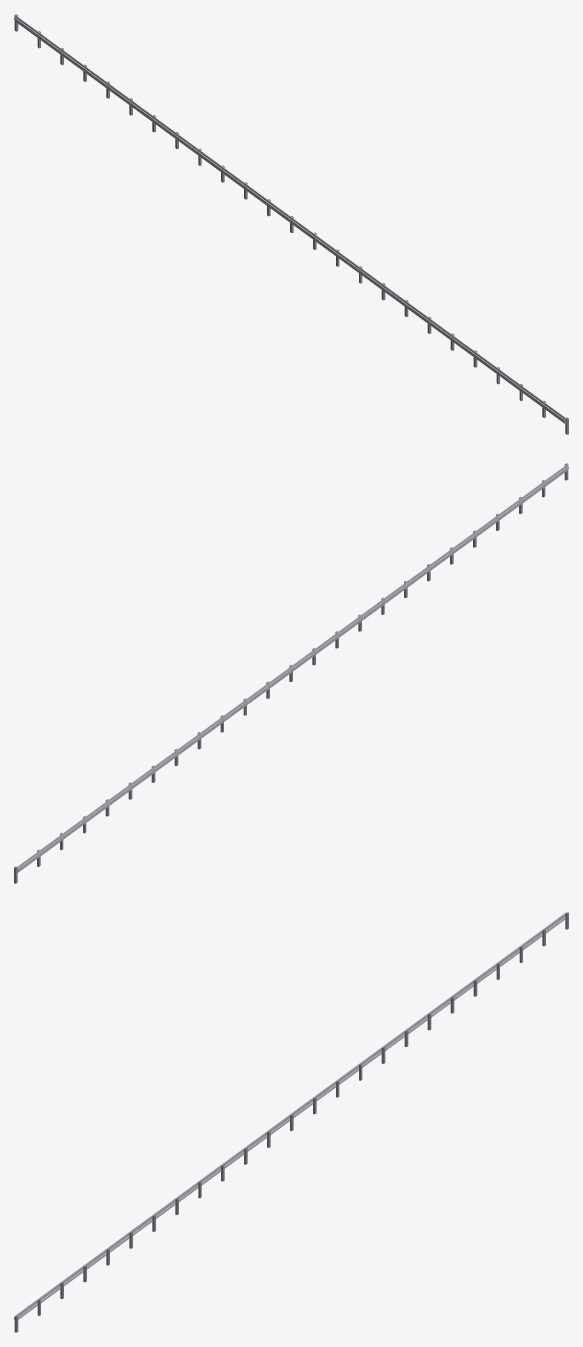
Rendered from Guardrail48.obj.
3 renders of one model, top to bottom at view 1: azimuth 30°, elevation 25°; view 2: azimuth 150°, elevation 25°; view 3: azimuth 330°, elevation 25°, orthographic.
Visible parts, largest first — view 1: Guardrail48; view 2: Guardrail48; view 3: Guardrail48.
Boxes of the visible parts, box(x1,y1,x2,y2) form: Guardrail48: box(14, 14, 568, 434); Guardrail48: box(14, 463, 568, 883); Guardrail48: box(14, 912, 568, 1332).
Size of the model in its own units: 0.17 by 0.765 by 48.14.
1 material, 1 textured.
